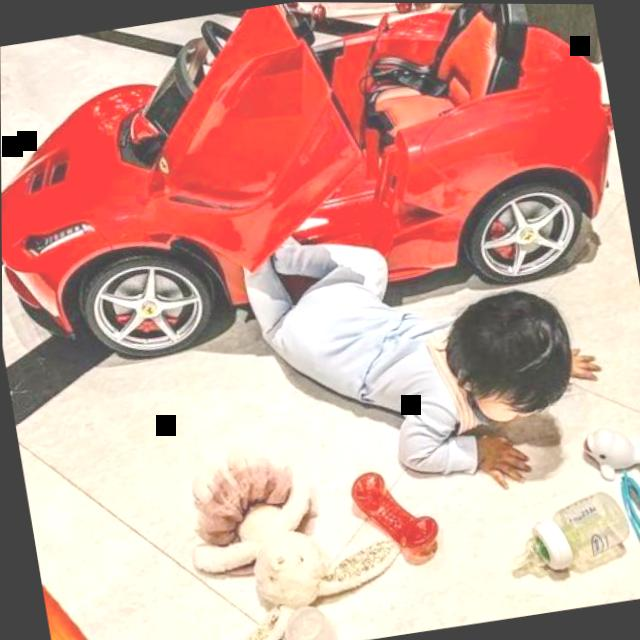Fall-Detected: (200, 156, 631, 530)
